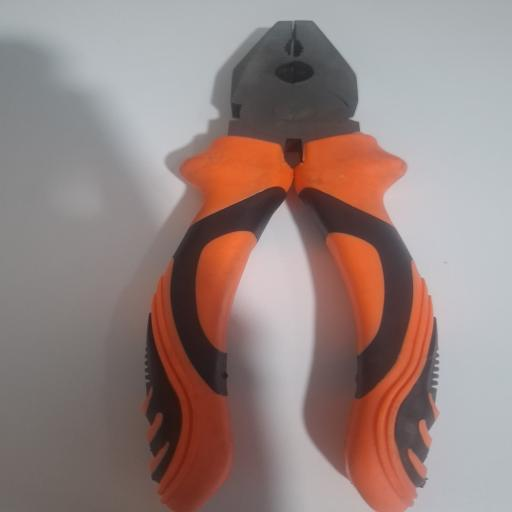alicate: (137, 19, 443, 512)
